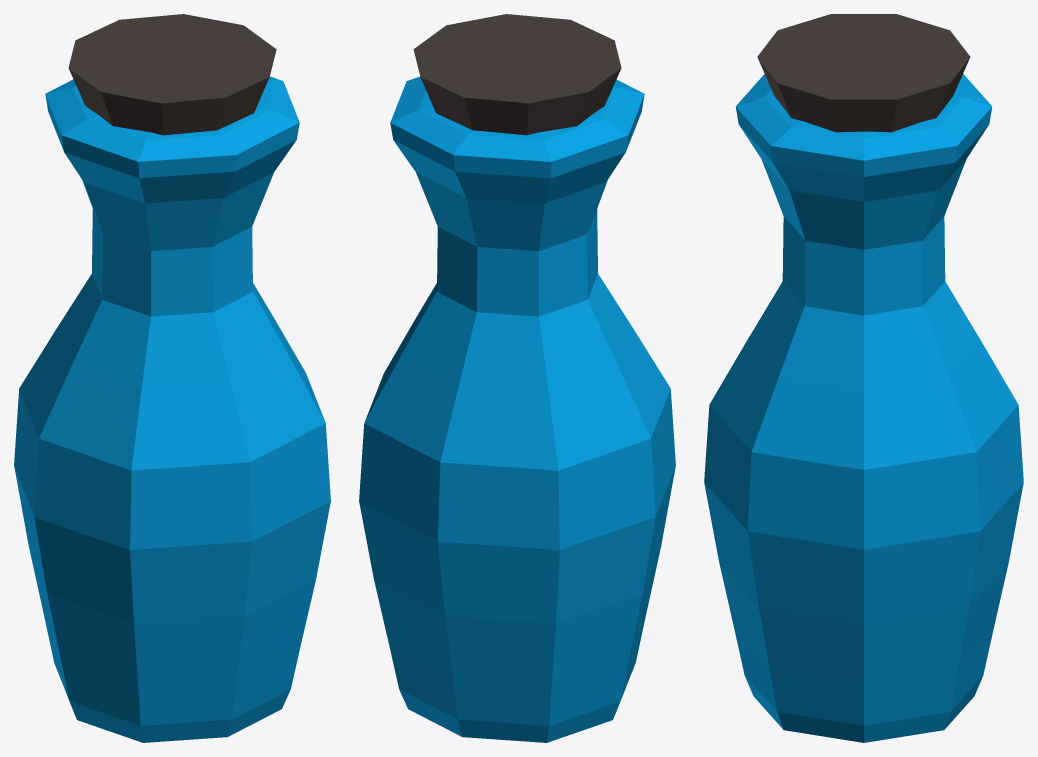
Rendered from Mana_Potion_004.fbx.
3 renders of one model, left to right at view 1: azimuth 30°, elevation 25°; view 2: azimuth 150°, elevation 25°; view 3: azimuth 270°, elevation 25°, orthographic.
Parts seen in each view (by area): view 1: Mana Potion.004; view 2: Mana Potion.004; view 3: Mana Potion.004.
Boxes of the visible parts, x1,y1,x2,y2 form: Mana Potion.004: (14,14,330,742); Mana Potion.004: (359,14,675,742); Mana Potion.004: (704,14,1023,742).
Size of the model in its own units: 18.45 by 41.05 by 18.45.
